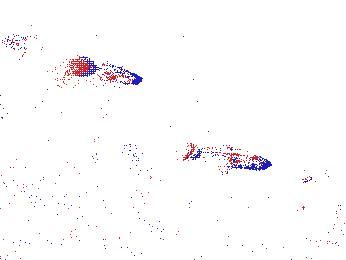X-ray fish: (2, 34, 59, 67), (315, 220, 346, 248)
redtail glassfish: (183, 139, 272, 172), (79, 57, 143, 87), (297, 200, 346, 219), (304, 167, 346, 186)
